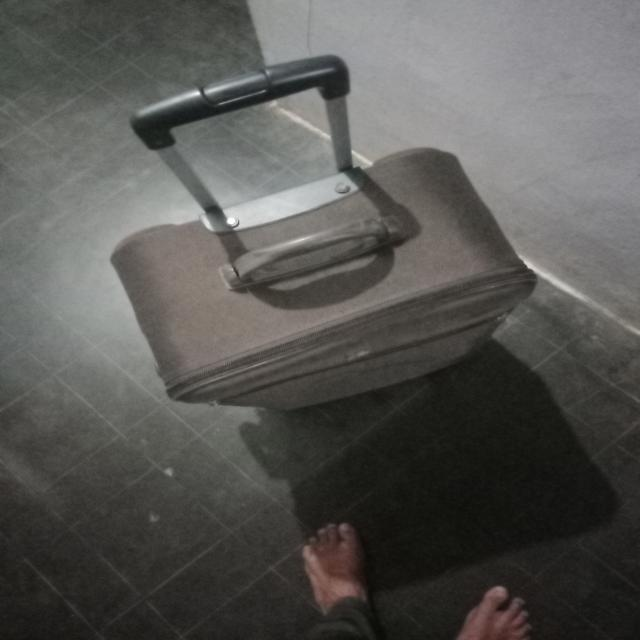suitcaserotation: (102, 49, 546, 417)
